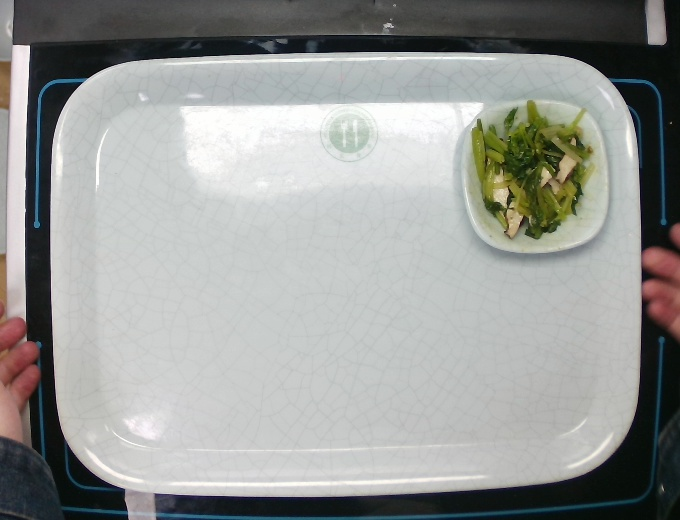JYsf-Si_Fang_Die: (450, 85, 631, 270)
